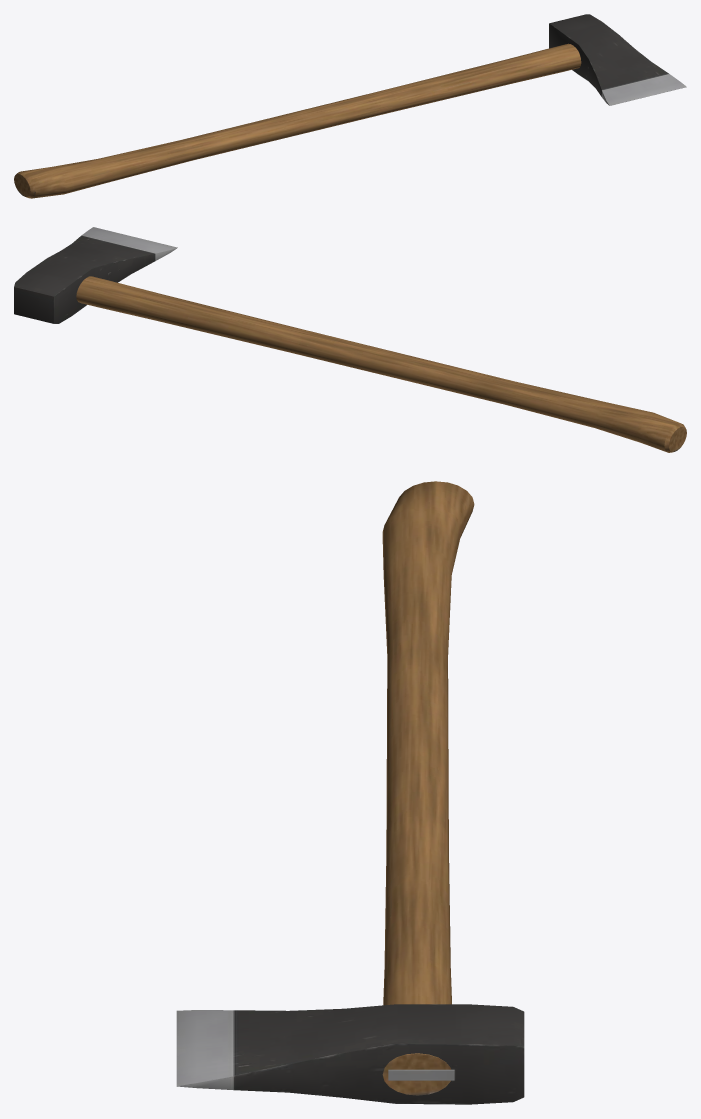
File: machado.glb
3 renders of one model, top to bottom at view 1: azimuth 30°, elevation 25°; view 2: azimuth 150°, elevation 25°; view 3: azimuth 270°, elevation 25°, orthographic. The views are drawn at different scales.
Visible parts, largest first — view 1: cabo, cabeca; view 2: cabo, cabeca; view 3: cabo, cabeca.
Part boxes in pixels (left/top/right/bottom): cabo: left=14, top=43, right=581, bottom=198; cabeca: left=549, top=14, right=686, bottom=105; cabo: left=76, top=276, right=686, bottom=452; cabeca: left=14, top=227, right=177, bottom=323; cabo: left=382, top=481, right=474, bottom=1095; cabeca: left=176, top=1004, right=524, bottom=1104.
Size of the model in its own units: 0.752 by 0.036 by 0.189.
1 material, 1 textured.
